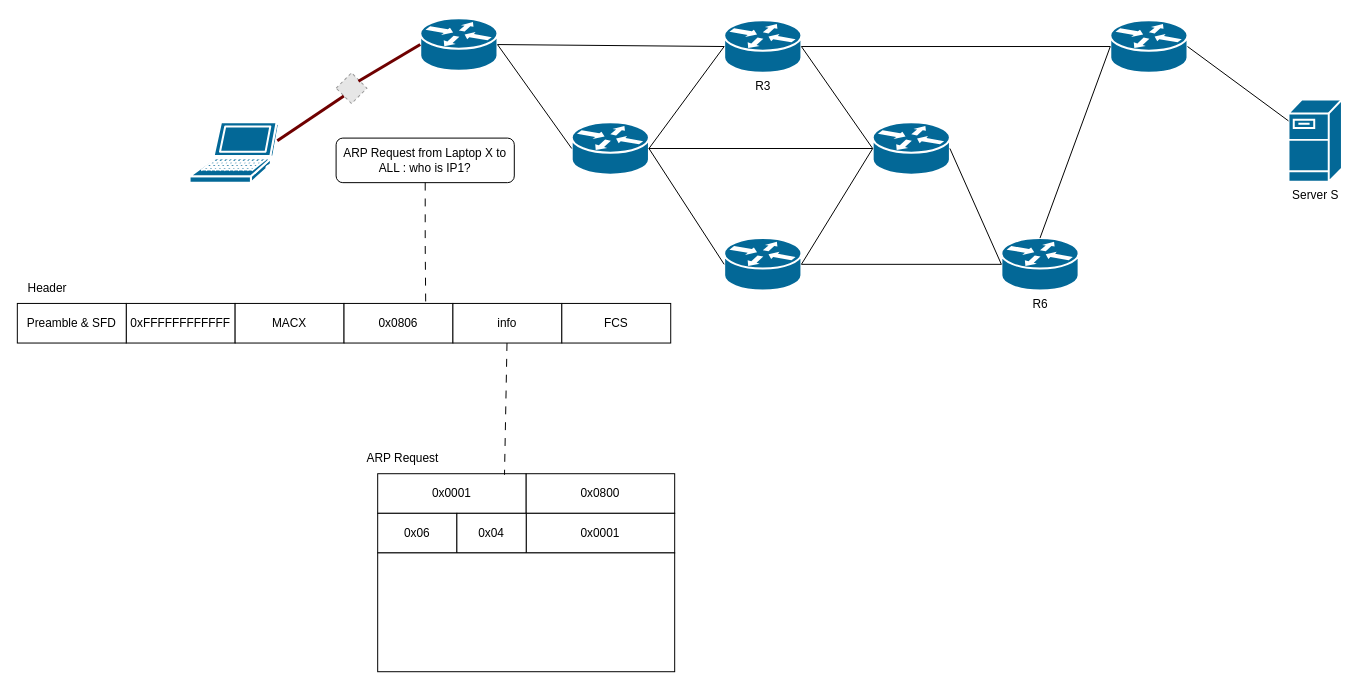
Image size: 1360x689. Some labels were removed from this diagram. Grey dashed boxes stand in for pictures. The centre of each missing label's shape, as x and y in pixels:
"Laptop X" goes at point (233, 152).
"MACX IPX 0x0000000000000000 IP1" goes at point (526, 612).
"R1" goes at point (458, 44).
"R2" goes at point (609, 148).
"R4" goes at point (762, 264).
"R5" goes at point (910, 148).
"R7" goes at point (1148, 46).
